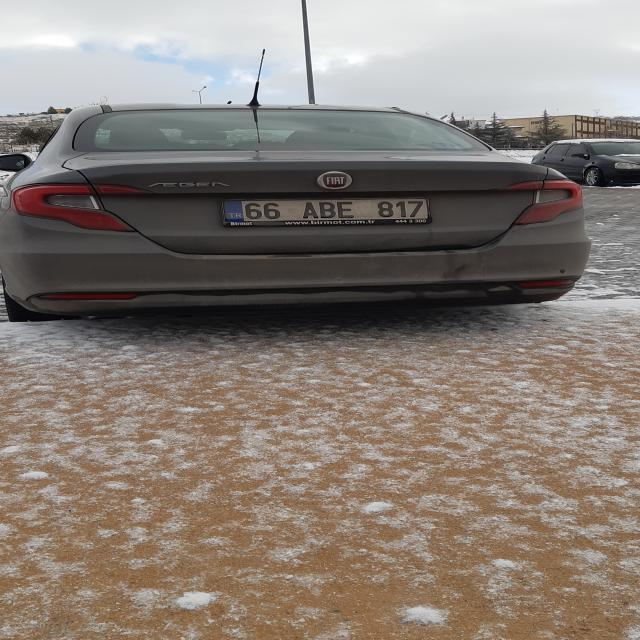license_plate: (220, 198, 433, 222)
